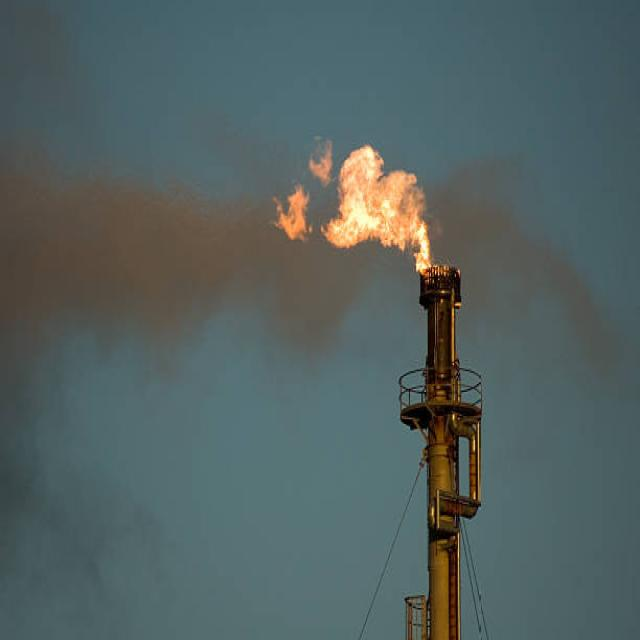fire: (321, 144, 431, 273), (273, 183, 306, 243)
